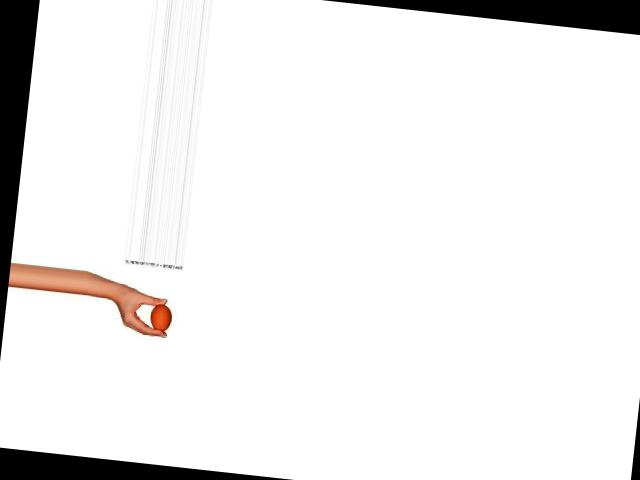egg: (149, 302, 173, 333)
